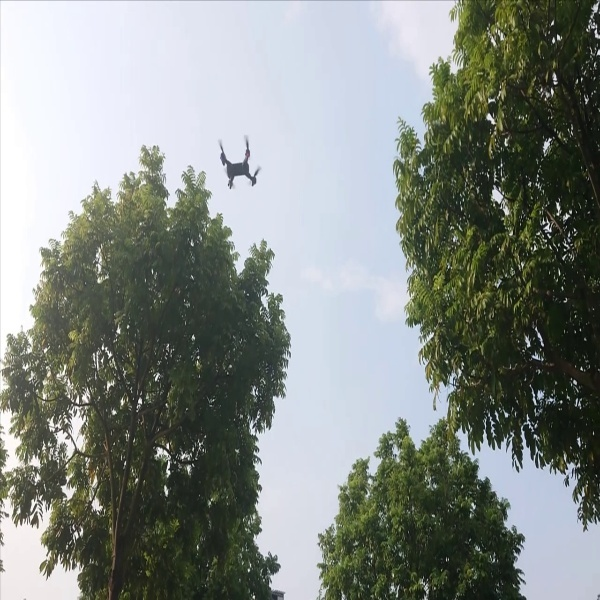drone: (210, 135, 275, 194)
